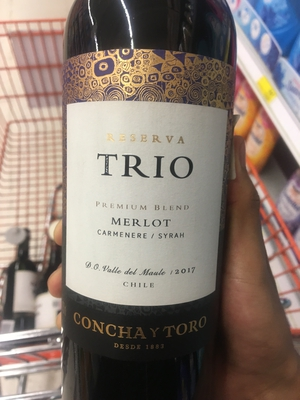trio merlot: (52, 5, 238, 400)
